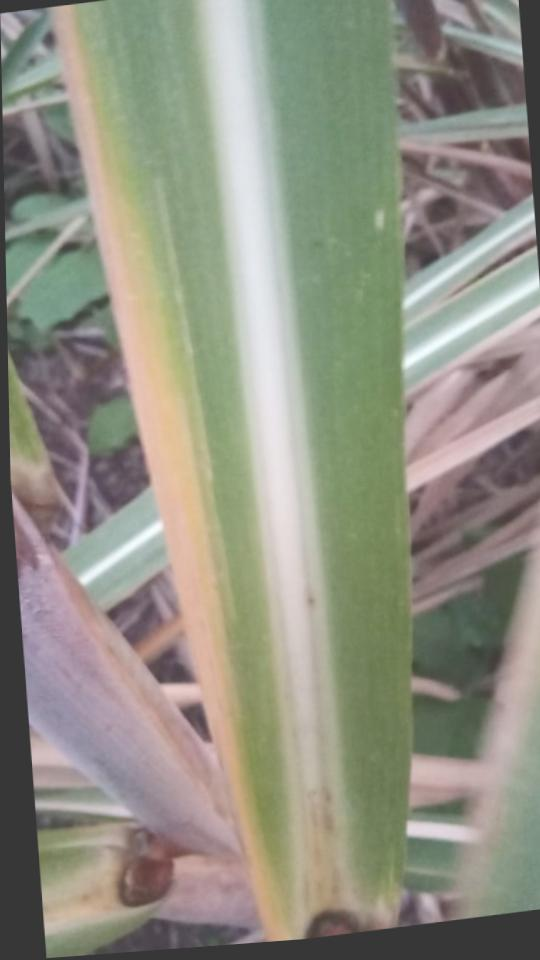Rust: (296, 785, 345, 921), (301, 590, 318, 612)
Yellow: (49, 5, 297, 941)
